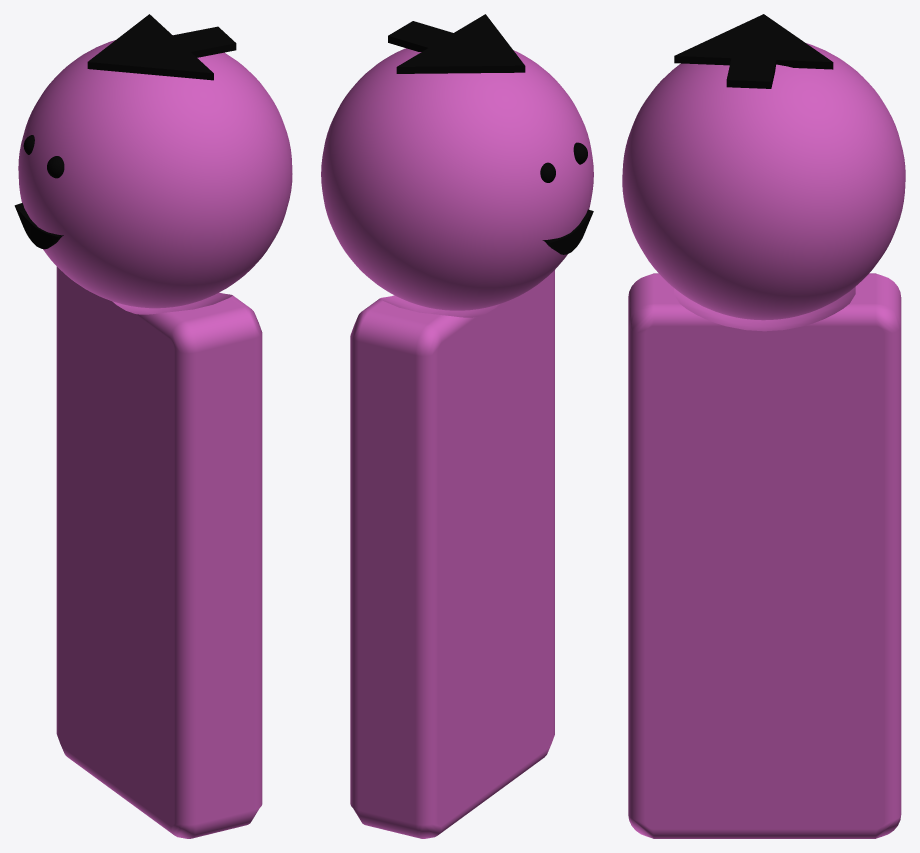
File: pink_smile.obj
3 renders of one model, left to right at view 1: azimuth 30°, elevation 25°; view 2: azimuth 150°, elevation 25°; view 3: azimuth 270°, elevation 25°, orthographic. The views are drawn at different scales.
Visible parts, largest first — view 1: 1_Curve.002_Curve.001, 5.002_Curve.002_Curve.003_5.002_Curve.002_Curve.002; view 2: 1_Curve.002_Curve.001, 5.002_Curve.002_Curve.003_5.002_Curve.002_Curve.002; view 3: 1_Curve.002_Curve.001, 5.002_Curve.002_Curve.003_5.002_Curve.002_Curve.002.
Boxes of the visible parts, x1,y1,x2,y2 form: 1_Curve.002_Curve.001: (18, 40, 292, 838); 5.002_Curve.002_Curve.003_5.002_Curve.002_Curve.002: (14, 14, 236, 249); 1_Curve.002_Curve.001: (321, 48, 593, 838); 5.002_Curve.002_Curve.003_5.002_Curve.002_Curve.002: (388, 14, 593, 254); 1_Curve.002_Curve.001: (622, 43, 905, 838); 5.002_Curve.002_Curve.003_5.002_Curve.002_Curve.002: (674, 14, 833, 88).
Bounding box in the file's own units: 0.1662 × 0.4993 × 0.1661.
